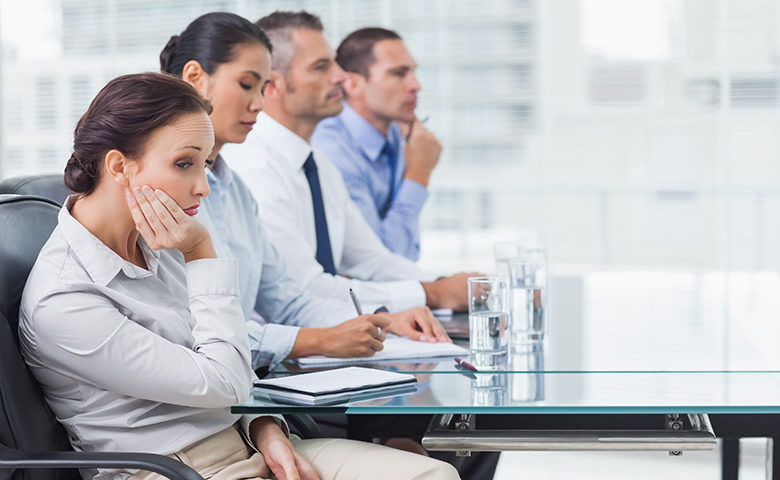without_mask: (155, 136, 215, 226), (294, 36, 349, 124), (219, 59, 272, 144)
